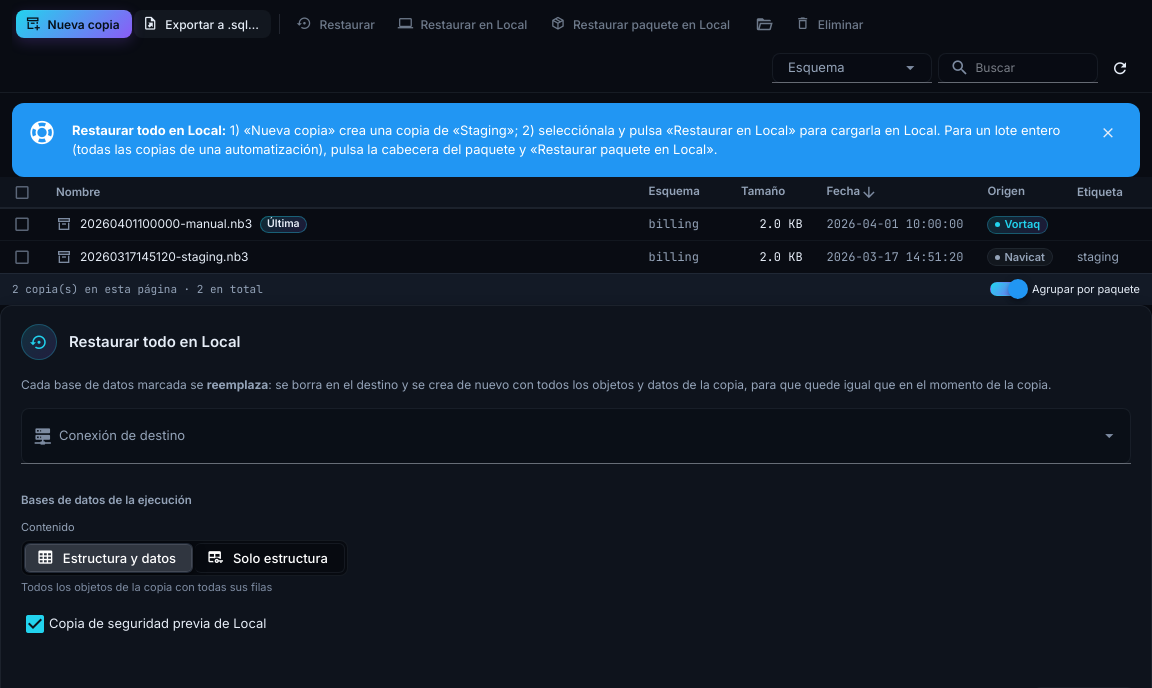
it: BackupsView › disables Eliminar for Navicat backups and enables it for Vortaq ones
Click the row that starts with "20260317145120-staging.nb3" at (164, 256), box [0,241,1151,273]
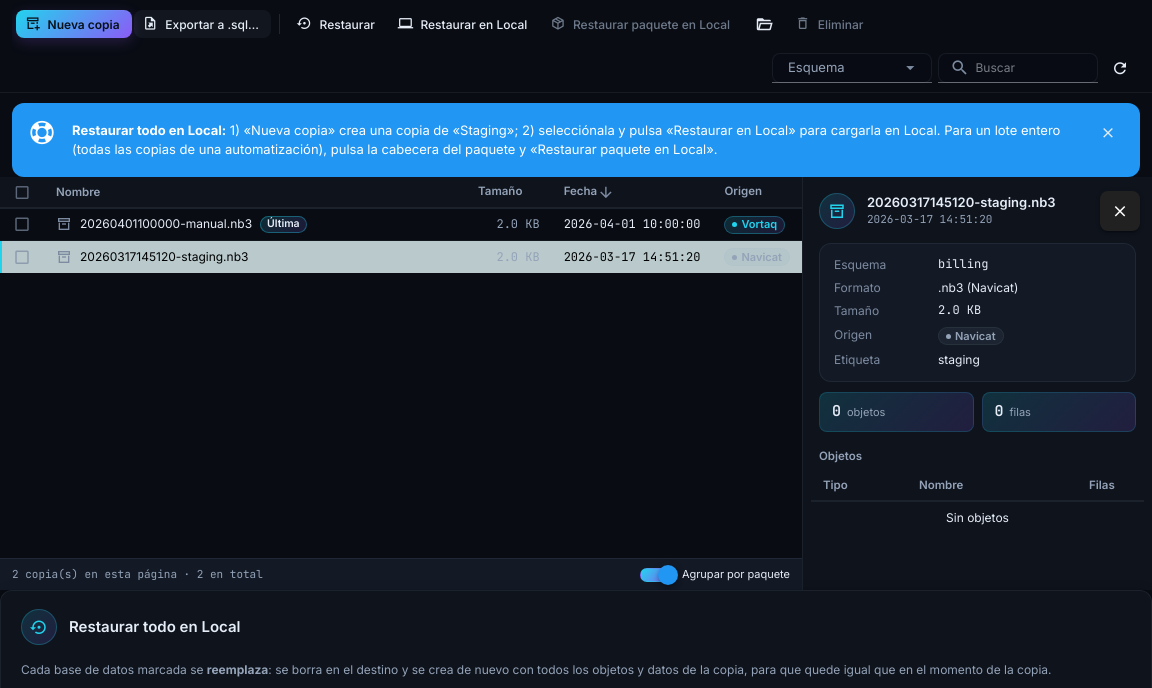
Check: the button with test id "backups-delete" is disabled, box [786,10,875,38]
Click the row that starts with "20260401100000-manual.nb3" at (401, 225), box [0,209,802,241]
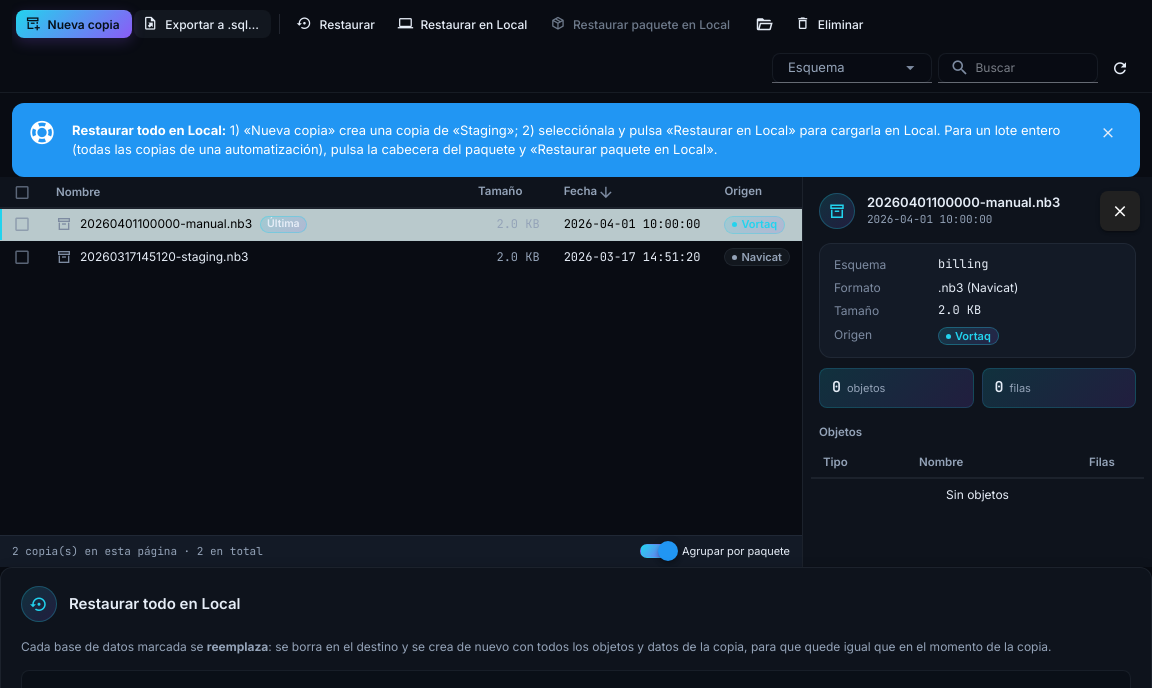
Check: the button with test id "backups-delete" is enabled, box [786,10,875,38]
